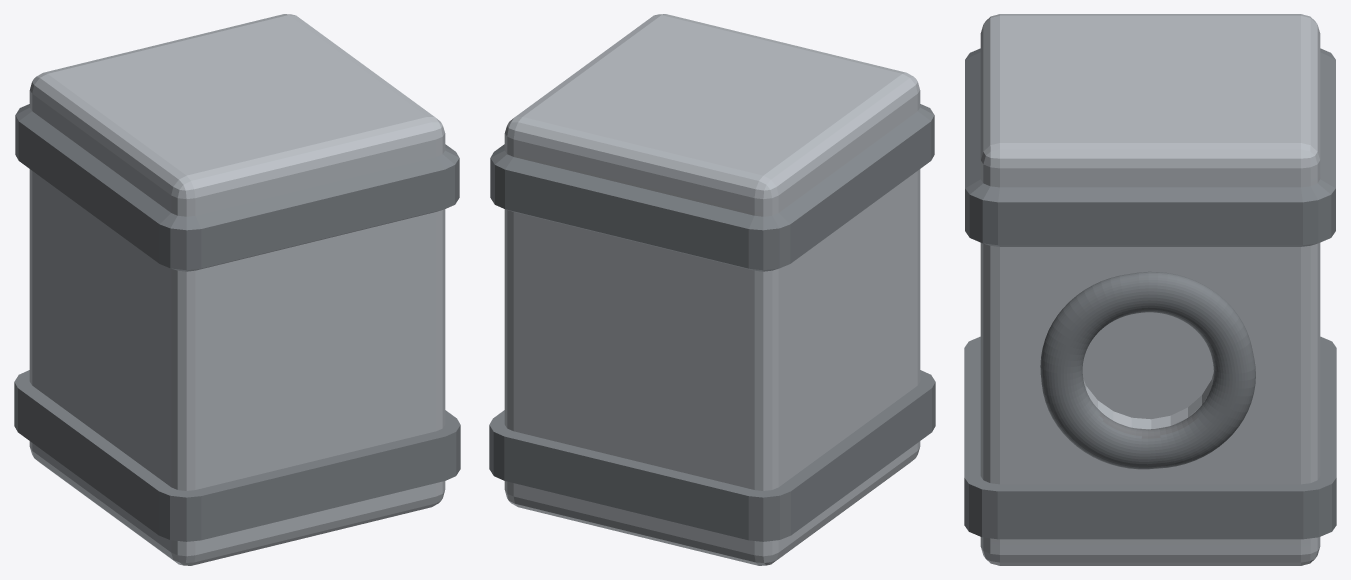
Rendered from çamaşır makinesi.fbx.
3 renders of one model, left to right at view 1: azimuth 30°, elevation 25°; view 2: azimuth 150°, elevation 25°; view 3: azimuth 270°, elevation 25°, orthographic. The views are drawn at different scales.
Parts seen in each view (by area): view 1: Cube; view 2: Cube; view 3: Cube.
Part boxes in pixels (bbox=[...]): Cube: bbox=[14, 14, 460, 565]; Cube: bbox=[489, 14, 935, 565]; Cube: bbox=[964, 14, 1336, 565].
Size of the model in its own units: 222 by 274 by 220.
